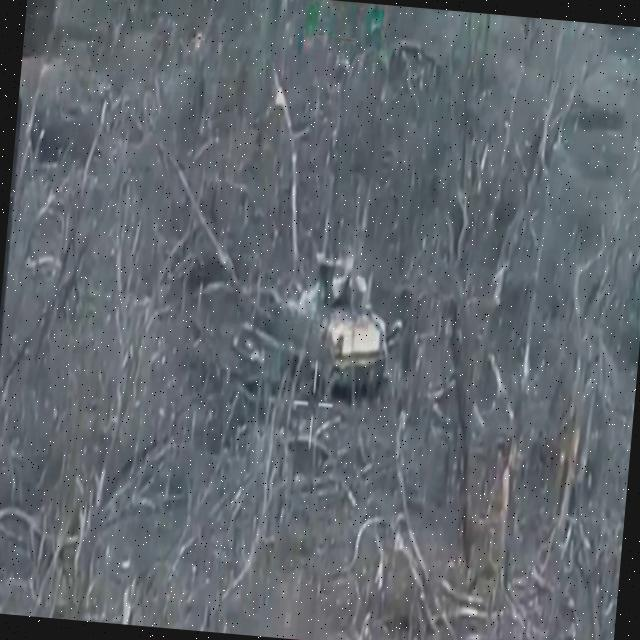AIFV: (277, 255, 395, 399)
